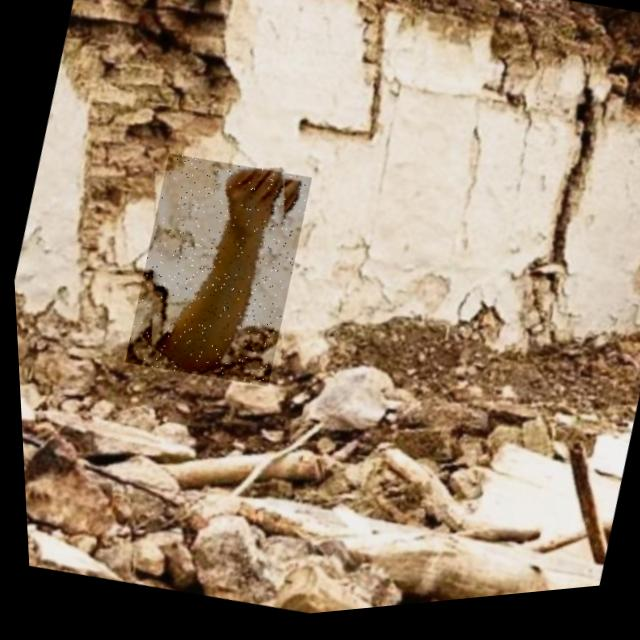Person in Rubble: (112, 145, 318, 402)
